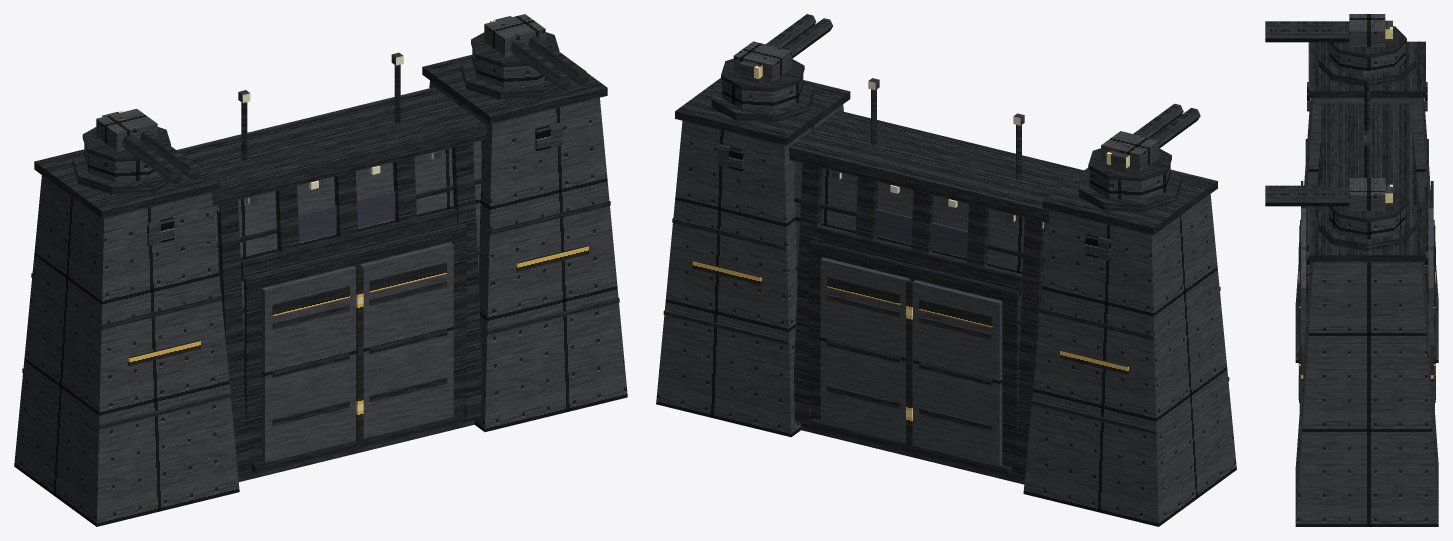
Rendered from gate.glb.
3 renders of one model, left to right at view 1: azimuth 30°, elevation 25°; view 2: azimuth 150°, elevation 25°; view 3: azimuth 270°, elevation 25°, orthographic. The views are drawn at different scales.
Visible parts, largest first — view 1: bastion, bastion.001, gate_lip, door_panel, door_panel.001, door_frame, gatehouse, pilaster, pilaster.008, bastion_lip, bastion_lip.001, lintel (+27 smaller); view 2: bastion, bastion.001, gate_lip, door_panel.002, door_panel.003, door_frame.001, gatehouse, pilaster.001, pilaster.009, bastion_lip, bastion_lip.001, lintel.001 (+25 smaller); view 3: bastion.001, gate_lip, bastion, bastion_lip.001, bastion_lip, pad.001, drum.001, drum, pad, mount, mount.001, barrel.001 (+13 smaller).
Part boxes in pixels (<box>): bastion: <box>14,175,239,526</box>; bastion.001: <box>429,80,627,431</box>; gate_lip: <box>176,87,487,206</box>; door_panel: <box>262,266,356,462</box>; door_panel.001: <box>359,242,453,438</box>; door_frame: <box>244,223,466,470</box>; gatehouse: <box>213,141,481,344</box>; pilaster: <box>217,200,249,474</box>; pilaster.008: <box>451,143,481,418</box>; bastion_lip: <box>34,149,219,218</box>; bastion_lip.001: <box>422,55,607,124</box>; lintel: <box>240,208,457,281</box>; bastion: <box>1023,194,1236,526</box>; bastion.001: <box>656,104,843,437</box>; gate_lip: <box>789,110,1083,223</box>; door_panel.002: <box>913,280,1002,466</box>; door_panel.003: <box>820,257,910,443</box>; door_frame.001: <box>809,240,1018,473</box>; gatehouse: <box>794,161,1048,355</box>; pilaster.001: <box>1014,217,1044,477</box>; pilaster.009: <box>794,163,822,424</box>; bastion_lip: <box>1042,167,1217,235</box>; bastion_lip.001: <box>675,78,850,145</box>; lintel.001: <box>817,225,1022,294</box>; bastion.001: <box>1295,262,1438,526</box>; gate_lip: <box>1321,103,1413,205</box>; bastion: <box>1295,98,1438,362</box>; bastion_lip.001: <box>1308,205,1425,262</box>; bastion_lip: <box>1308,41,1425,98</box>; pad.001: <box>1318,213,1415,250</box>; drum.001: <box>1329,207,1405,239</box>; drum: <box>1329,43,1405,74</box>; pad: <box>1318,49,1415,86</box>; mount: <box>1349,14,1385,46</box>; mount.001: <box>1349,178,1385,210</box>; barrel.001: <box>1265,29,1349,42</box>.
Bounding box in the file's own units: 208 × 134 × 68.
8 materials, 8 textured.
